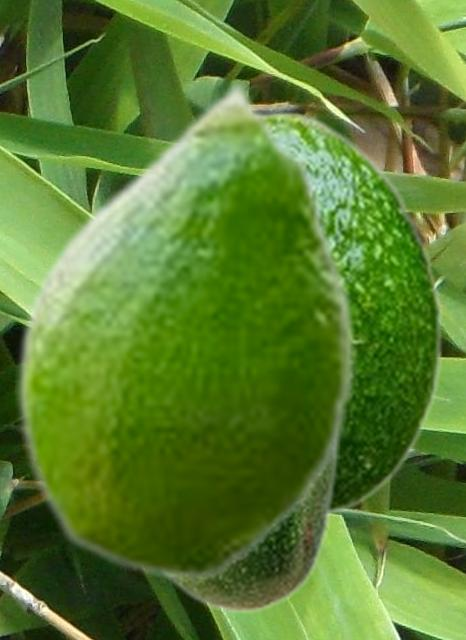avocado: (15, 78, 356, 581), (262, 110, 443, 519), (160, 454, 338, 614)
